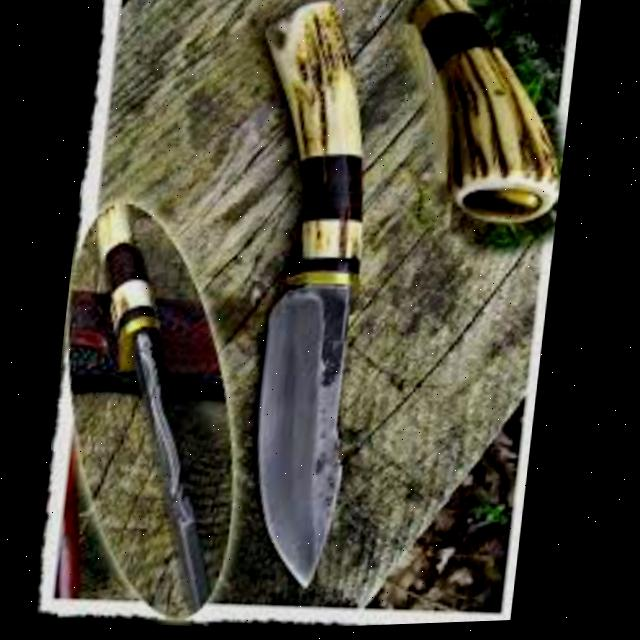knife: (205, 0, 396, 596), (56, 197, 255, 623)
